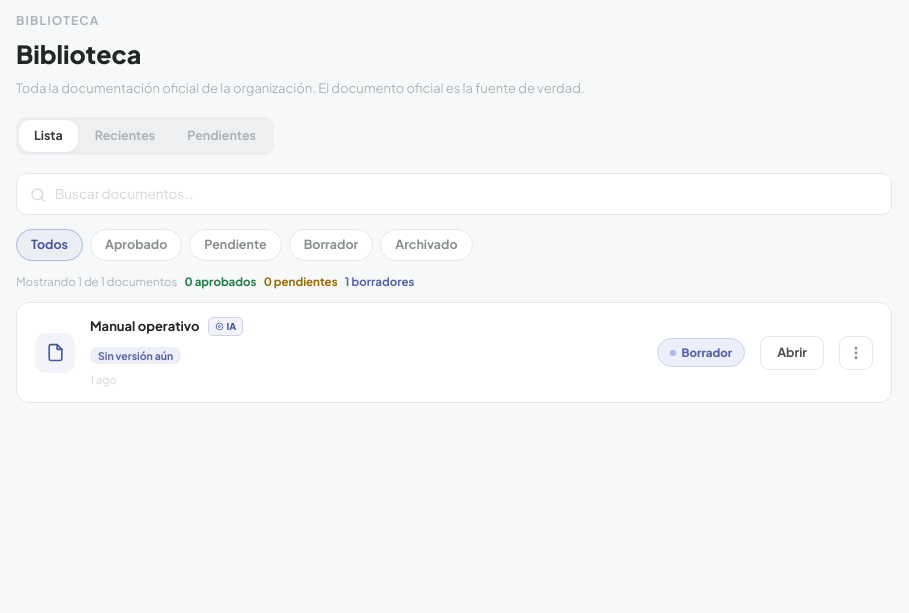
Test: WorkspacePage — menú contextual de la Biblioteca › Copiar enlace copia la URL del documento y muestra confirmación
Click the button named "Más opciones". click: (856, 353)
box: left=839, top=336, right=873, bottom=370
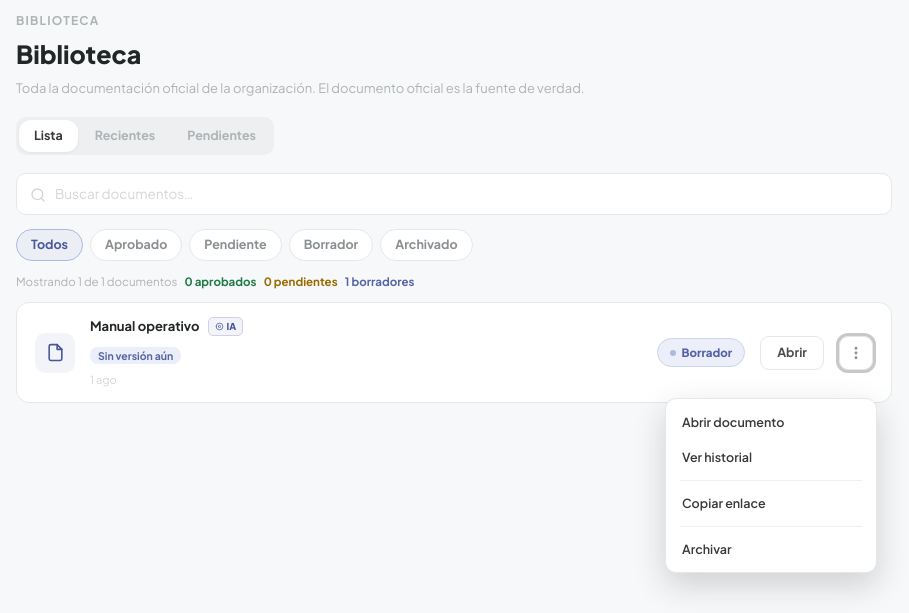
Click the menu item "Copiar enlace". click: (771, 503)
box: left=672, top=486, right=870, bottom=521
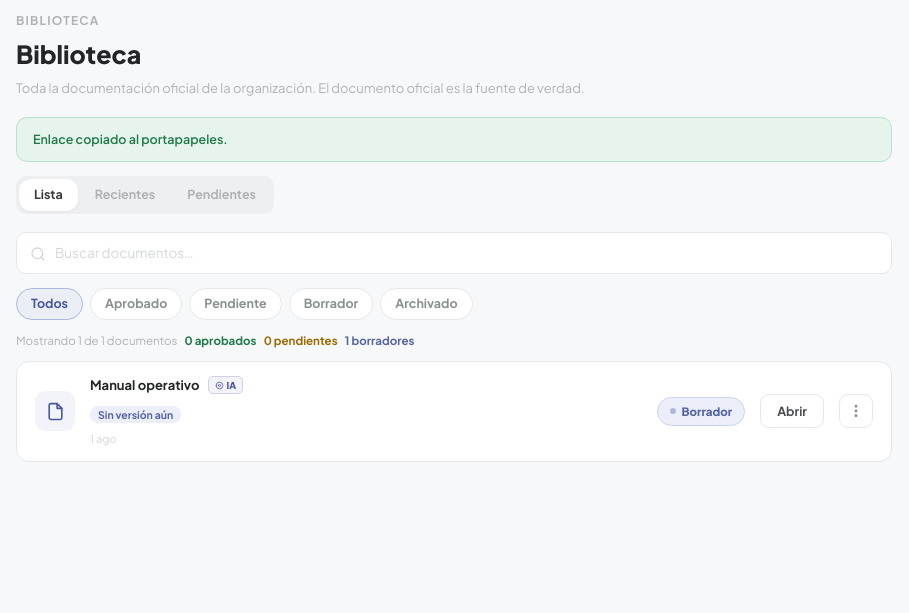
Now the text "Enlace copiado al portapapeles." is shown, box left=16, top=117, right=892, bottom=162
